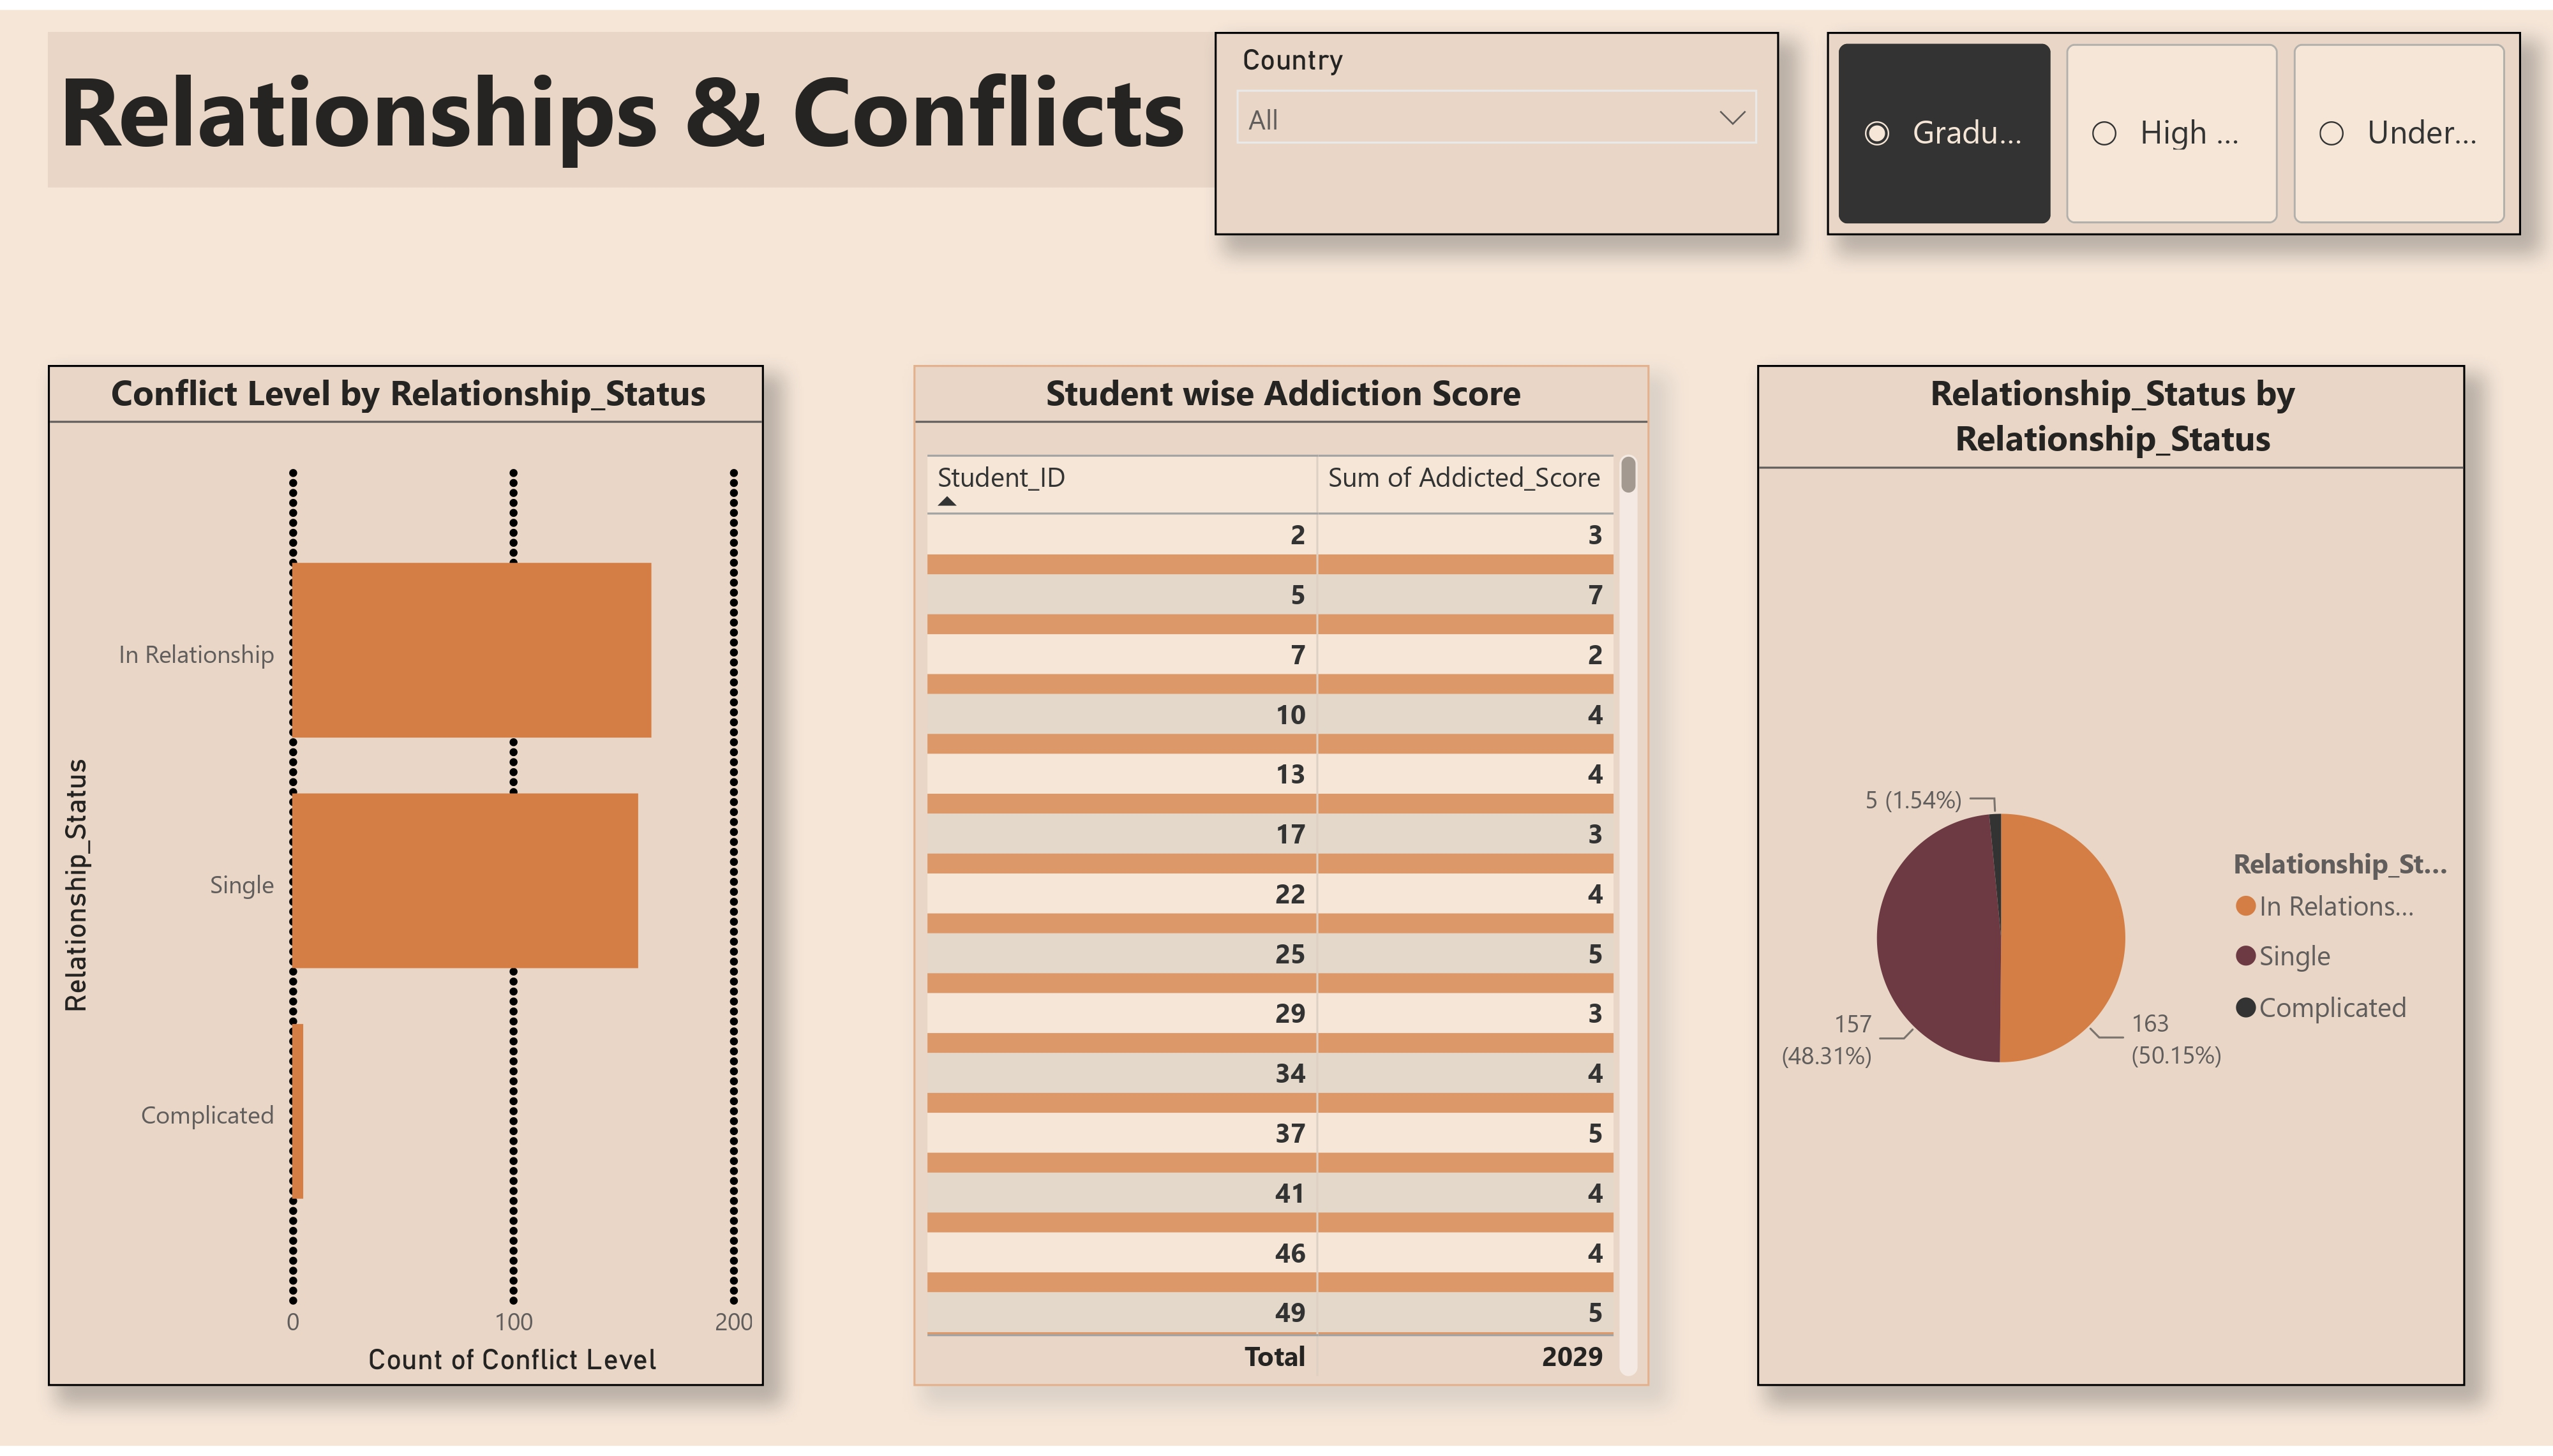

The page's visual inventory and layout, read from the dashboard file:
{"tool":"powerbi","page":{"name":"Relationships & Conflicts","canvas":[1280,720],"ordinal":3},"visuals":[{"type":"barChart","title":"Conflict Level by Relationship_Status","fields":{"Category":["Student Details.Relationship_Status"],"Y":["CountNonNull(Student Details.Conflict Level)"]},"box":[336.8,192.7,510.1,241.3],"z":0},{"type":"tableEx","title":"Student wise Addiction Score","fields":{"Values":["Platform Details.Student_ID","Sum(Student Details.Addicted_Score)"]},"box":[895.4,192.7,361.1,241.3],"z":1000},{"type":"pieChart","title":" Relationship_Status by Relationship_Status","fields":{"Category":["Student Details.Relationship_Status"],"Y":["CountNonNull(Student Details.Relationship_Status)"]},"box":[336.8,459.9,510.1,244.5],"z":2000},{"type":"textbox","box":[24.3,11.3,765.9,77.7],"z":2001},{"type":"cardVisual","fields":{"Data":["Count(Student Details.Addicted_Score)"]},"box":[608.8,74.5,207.3,103.6],"z":2002},{"type":"cardVisual","fields":{"Data":["Student Details.Avg Usage Hours"]},"box":[858.2,74.5,186.2,103.6],"z":2003},{"type":"cardVisual","fields":{"Data":["Student Details.Avg Sleep Hours"]},"box":[1083.3,74.5,186.2,103.6],"z":2004},{"type":"cardVisual","fields":{"Data":["Student Details.Total Students"]},"box":[388.6,74.5,186.2,103.6],"z":2005},{"type":"lineChart","fields":{"Category":["Student Details.Sleep_Hours_Per_Night"],"Y":["DateTable.Monthly Trend"]},"box":[882.5,446.9,374,257.5],"z":2006},{"type":"slicer","fields":{"Values":["Student Details.Country"]},"box":[24.3,90.7,238,87.4],"z":2007},{"type":"slicer","fields":{"Values":["Student Details.Academic_Level"]},"box":[24.3,192.7,238,84.2],"z":2008},{"type":"slicer","fields":{"Values":["Student Details.Gender"]},"box":[24.3,314.1,234.8,85.8],"z":2009}]}

Visuals, with their boxes in screenshot pixels (x1, y1, x2, y2), scaled from the page's 1280x720 canvas onto the 2553x1456 screenshot:
"Conflict Level by Relationship_Status" barChart: rect(671, 390, 1689, 878)
"Student wise Addiction Score" tableEx: rect(1786, 390, 2506, 878)
" Relationship_Status by Relationship_Status" pieChart: rect(671, 930, 1689, 1425)
textbox: rect(49, 23, 1576, 180)
cardVisual - Count(Student Details.Addicted_Score): rect(1214, 151, 1628, 360)
cardVisual - Student Details.Avg Usage Hours: rect(1712, 151, 2083, 360)
cardVisual - Student Details.Avg Sleep Hours: rect(2160, 151, 2532, 360)
cardVisual - Student Details.Total Students: rect(775, 151, 1146, 360)
lineChart - Student Details.Sleep_Hours_Per_Night x DateTable.Monthly Trend: rect(1760, 903, 2506, 1425)
slicer - Student Details.Country: rect(49, 183, 523, 360)
slicer - Student Details.Academic_Level: rect(49, 390, 523, 560)
slicer - Student Details.Gender: rect(49, 635, 517, 808)
